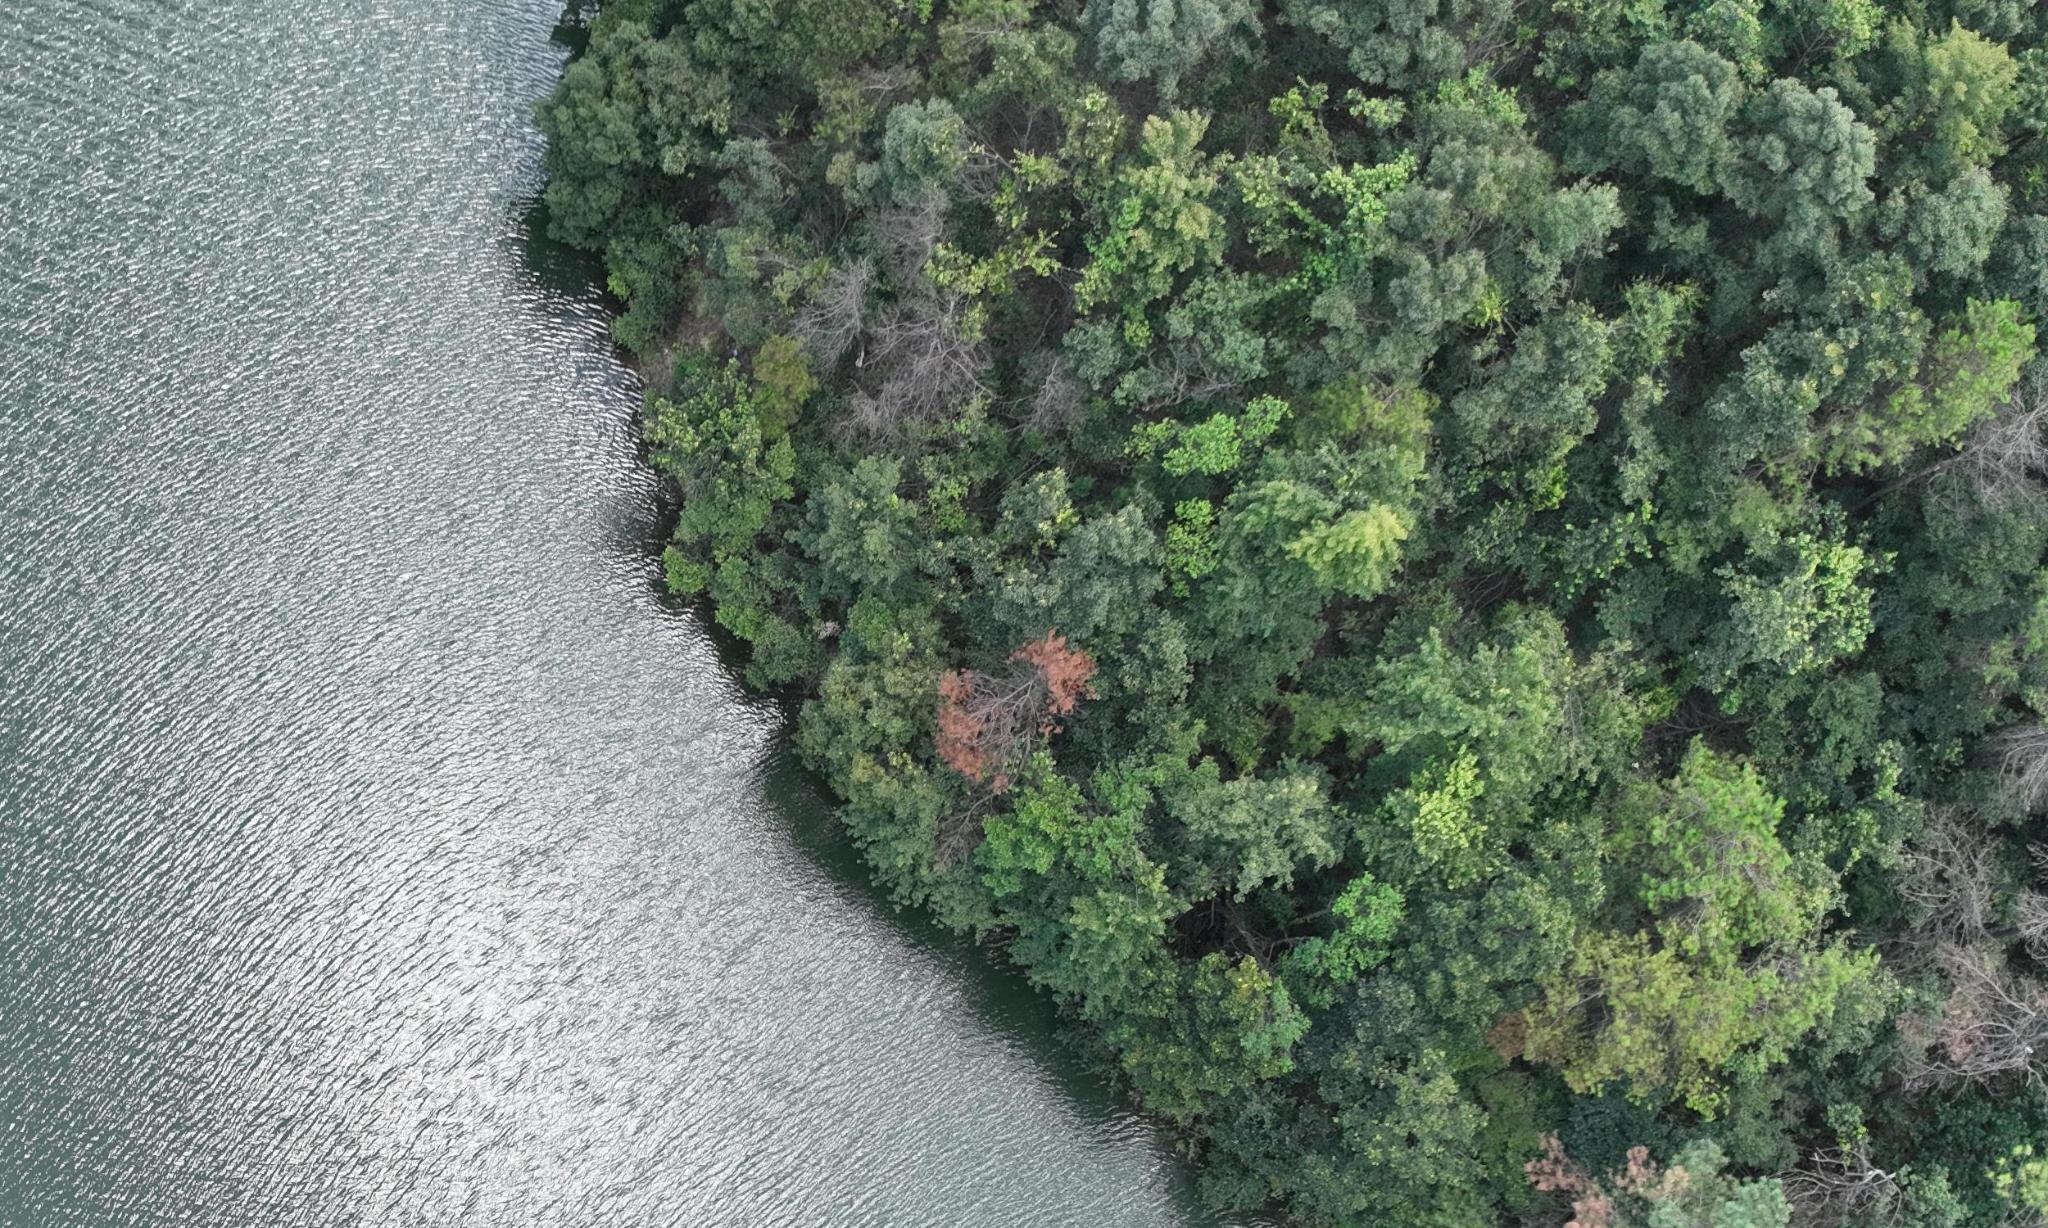dead: (811, 213, 998, 439), (1897, 841, 2029, 1085), (1952, 411, 2038, 506)
heavy: (925, 637, 1102, 794)
